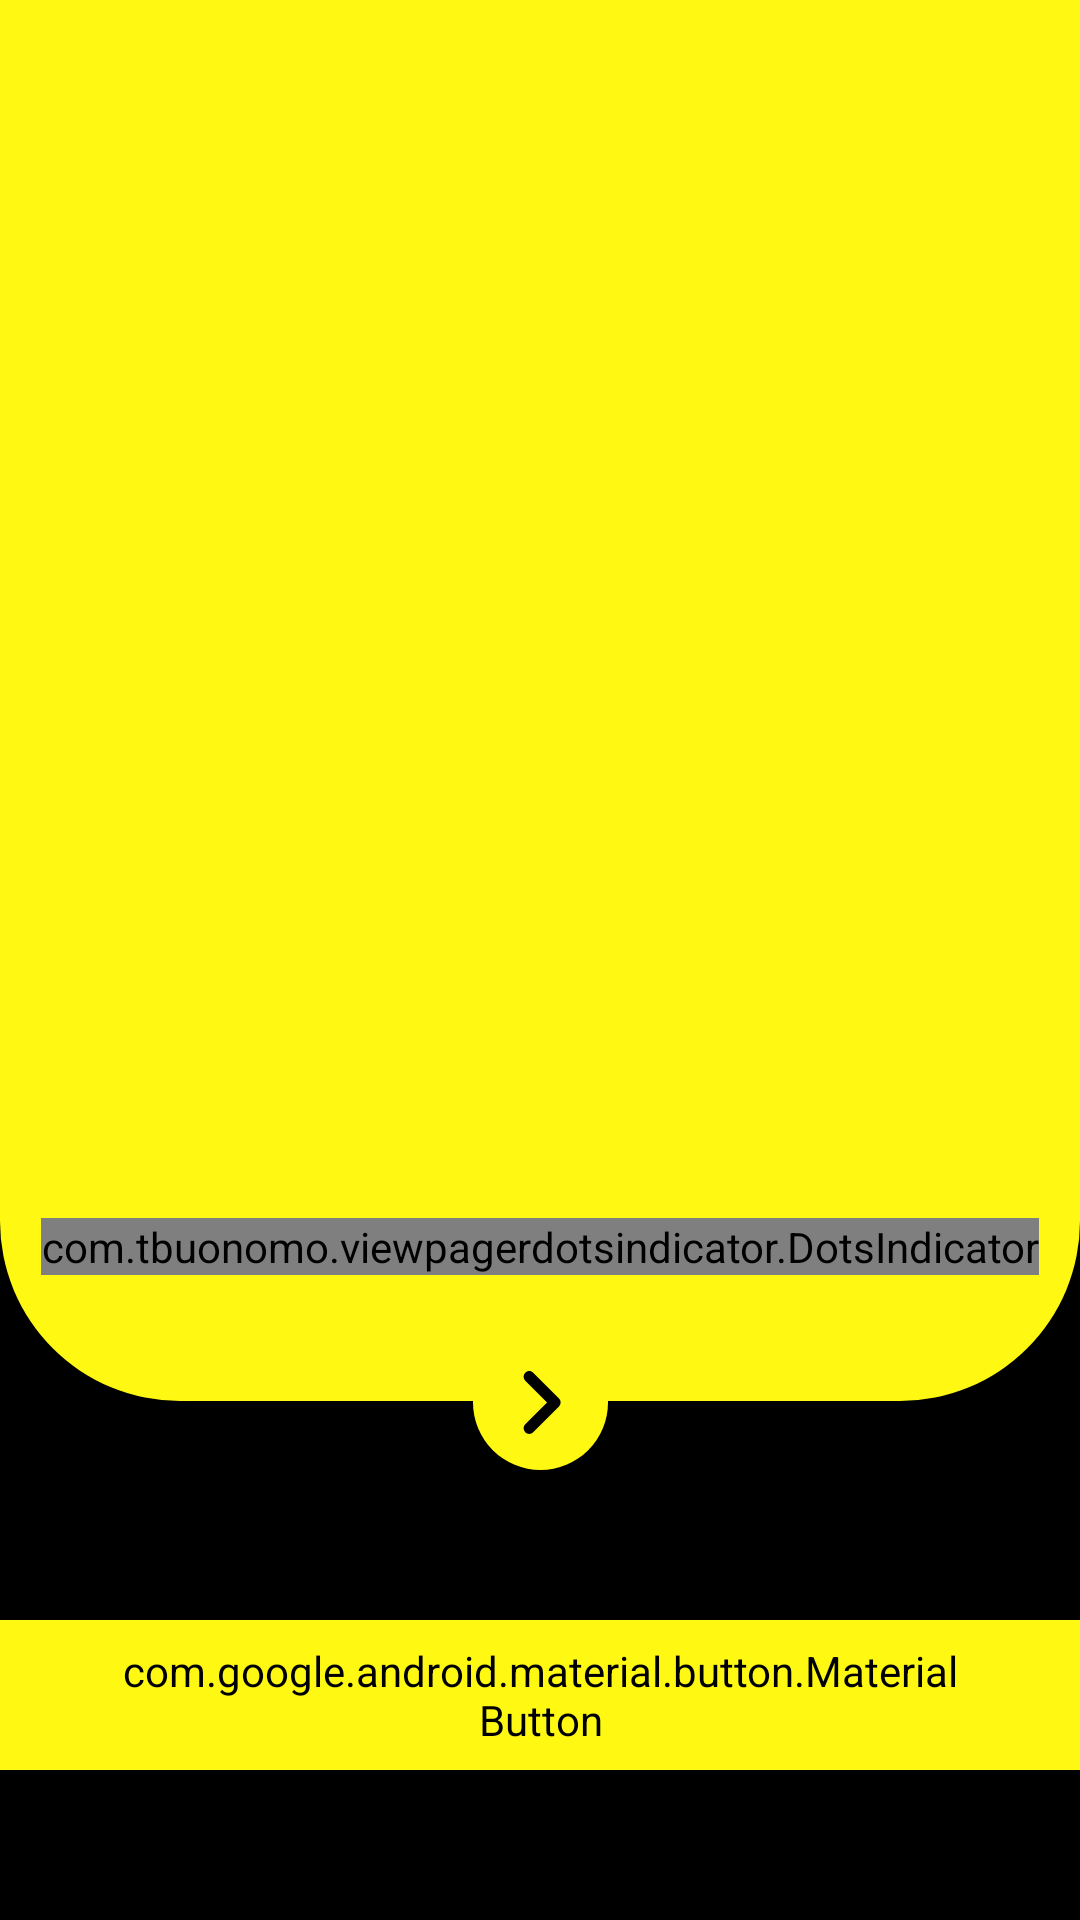

Icon click points for this 1080 × 1920 phone screenshot, format [x,y]:
right: [540,1402]
